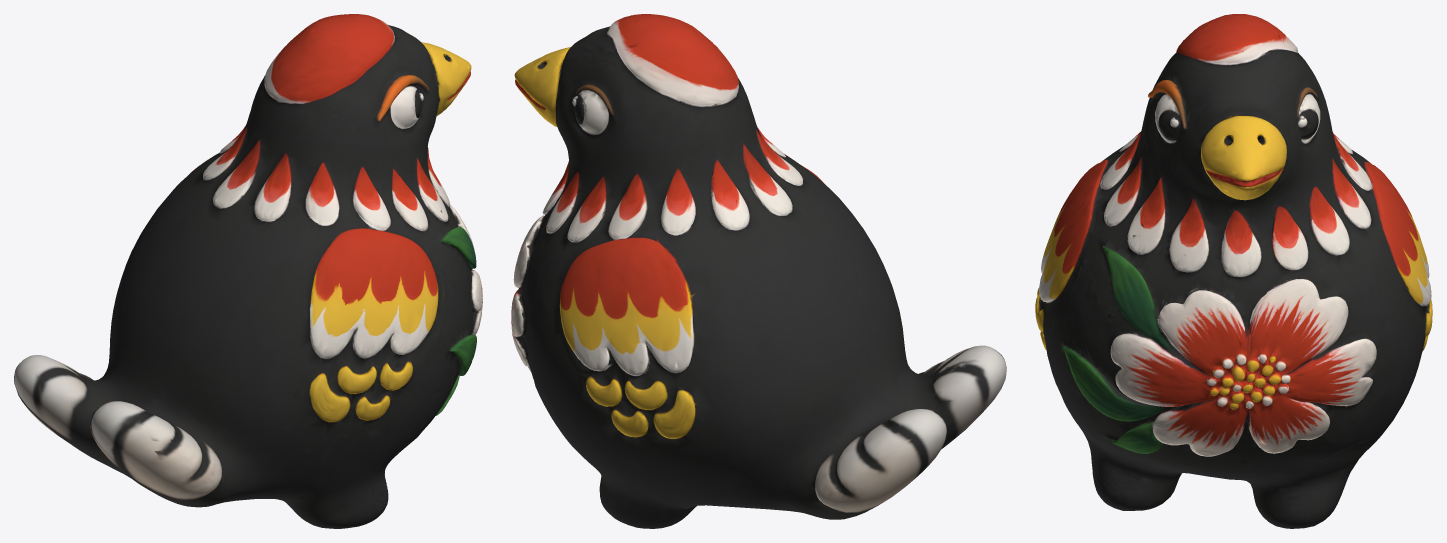
The model's file is mudgugu.glb.
3 views of the same model, side by side, from view 1: azimuth 30°, elevation 25°; view 2: azimuth 150°, elevation 25°; view 3: azimuth 270°, elevation 25° (orthographic). The views are drawn at different scales.
Parts seen in each view (by area): view 1: MudGugu; view 2: MudGugu; view 3: MudGugu.
Part boxes in pixels (x1,y1,x2,y2): MudGugu: (14, 14, 482, 528); MudGugu: (511, 14, 1006, 528); MudGugu: (1035, 14, 1432, 528).
Bounding box in the file's own units: 0.966 × 0.9804 × 0.6988.
1 material, 1 textured.
